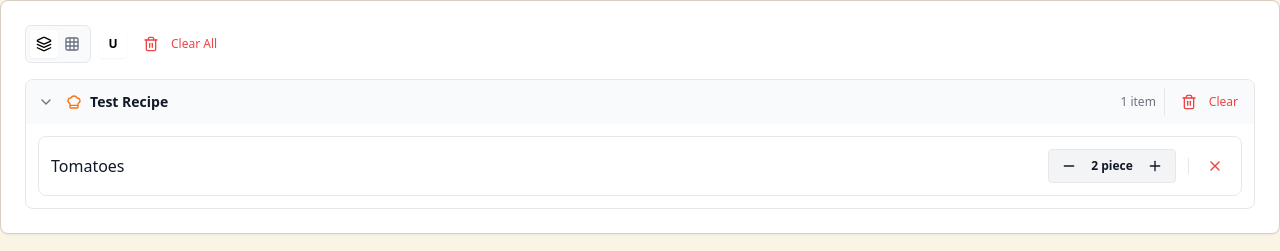
Scenario: ShoppingListSection › only shows the recipe delete action for recipe groups
The image size is (1280, 251).
Later steps or results of the test are not shown.
Click the button titled "Group by Category": x=72, y=44 [58, 30, 86, 58]
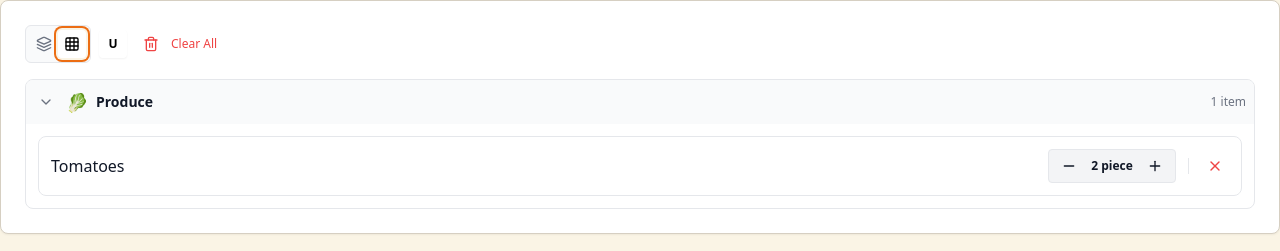
Result: the heading "Produce" is shown at [96, 92, 153, 112]
